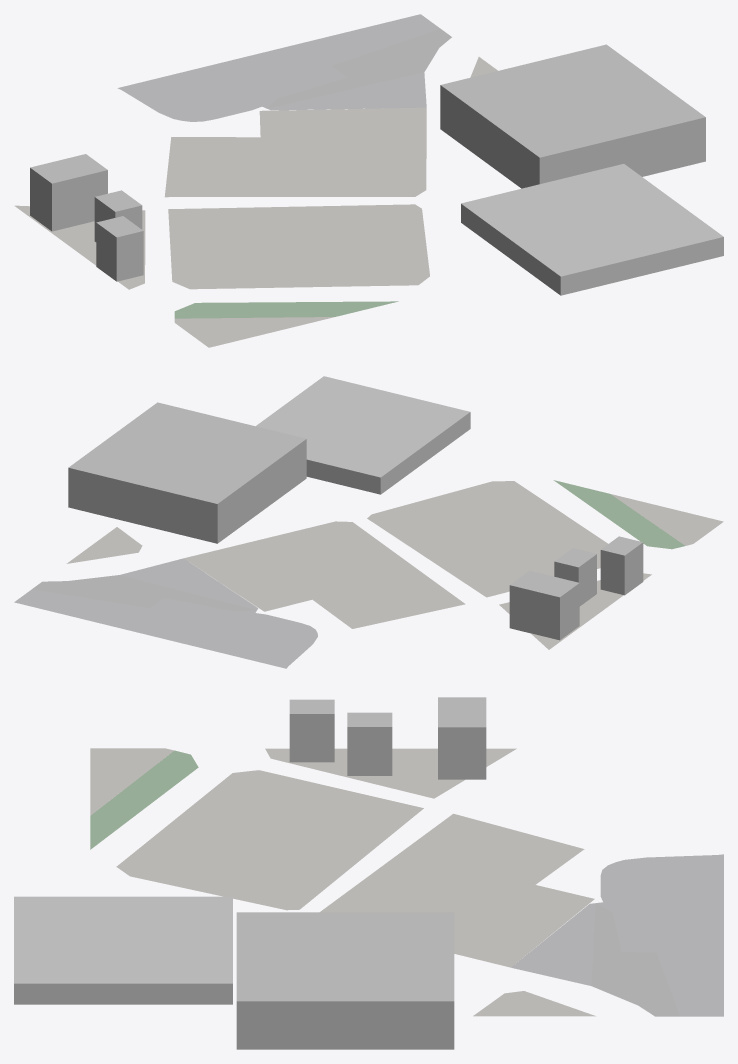
File: 106_92_mid.glb
3 views of the same model, one above another, from view 1: azimuth 30°, elevation 25°; view 2: azimuth 150°, elevation 25°; view 3: azimuth 270°, elevation 25° (orthographic). The views are drawn at different scales.
Bounding box in the file's own units: 564 × 45.8 × 560.
